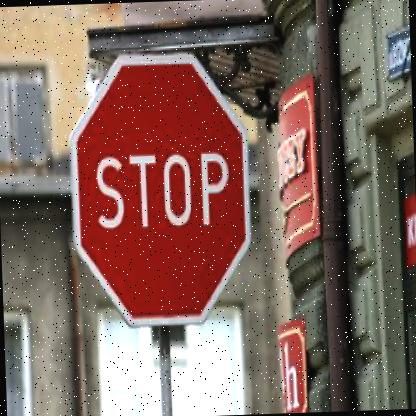stop: (64, 46, 253, 326)
